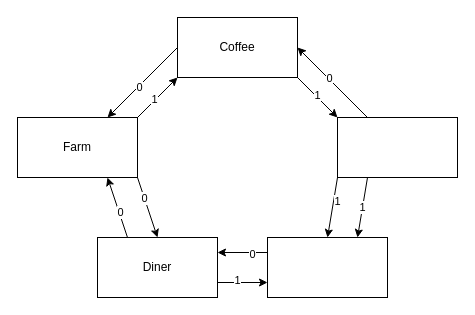
The diagram is 475 pixels wide and 315 high, and some of its shapes have lost their labels. Here are the shapes that lost their labels. From the top down, the box of each, then its label:
(336, 116, 458, 178): Tennis
(266, 236, 388, 298): Park
